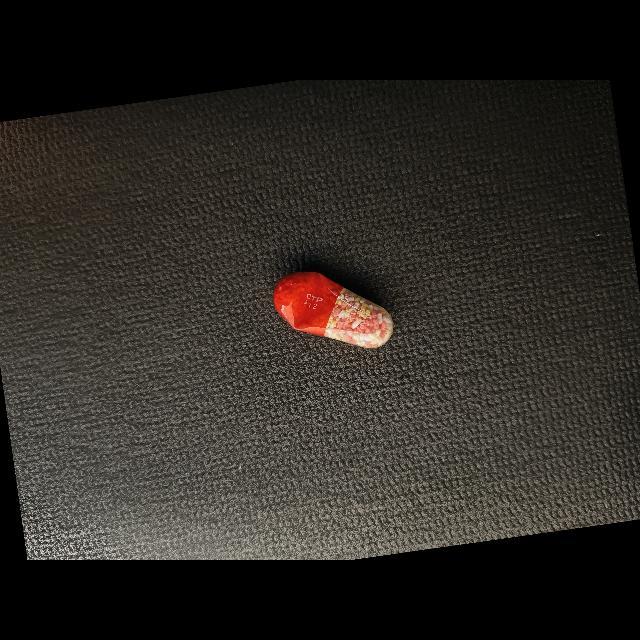Defective Capsule: (273, 272, 393, 349)
